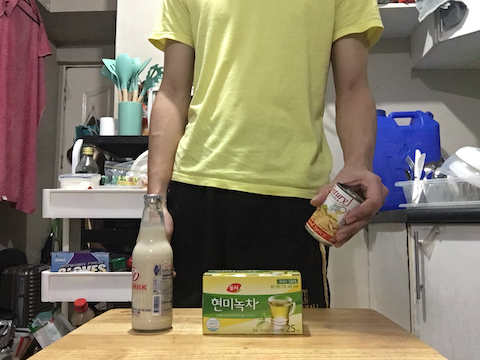bottle: (126, 188, 177, 337)
box: (199, 264, 308, 341)
can: (304, 179, 366, 250)
grab: (332, 171, 390, 251)
